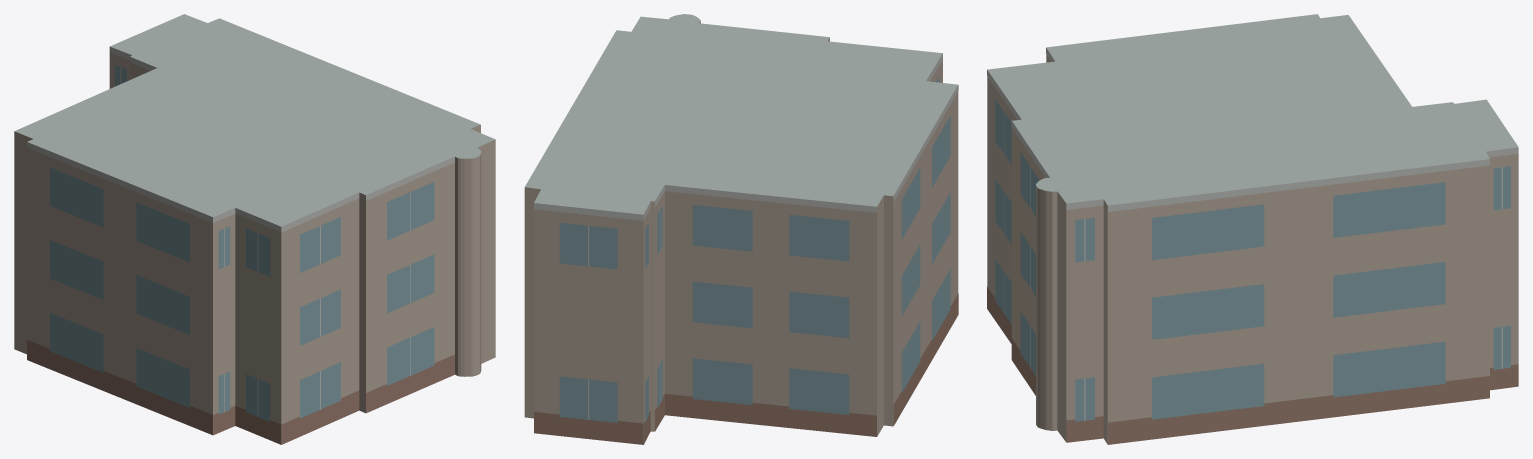
The model's file is survey-upis-32671247.glb.
The picture shows the model from 3 angles, left to right: view 1: azimuth 30°, elevation 25°; view 2: azimuth 150°, elevation 25°; view 3: azimuth 270°, elevation 25°; orthographic projection. The views are drawn at different scales.
Parts seen in each view (by area): view 1: survey-upis-32671247.tmp; view 2: survey-upis-32671247.tmp; view 3: survey-upis-32671247.tmp.
Part boxes in pixels (x1,y1,x2,y2): survey-upis-32671247.tmp: [14, 14, 495, 444]; survey-upis-32671247.tmp: [524, 14, 958, 444]; survey-upis-32671247.tmp: [987, 14, 1518, 444].
Bounding box in the file's own units: 15.65 × 9.1 × 18.34.
